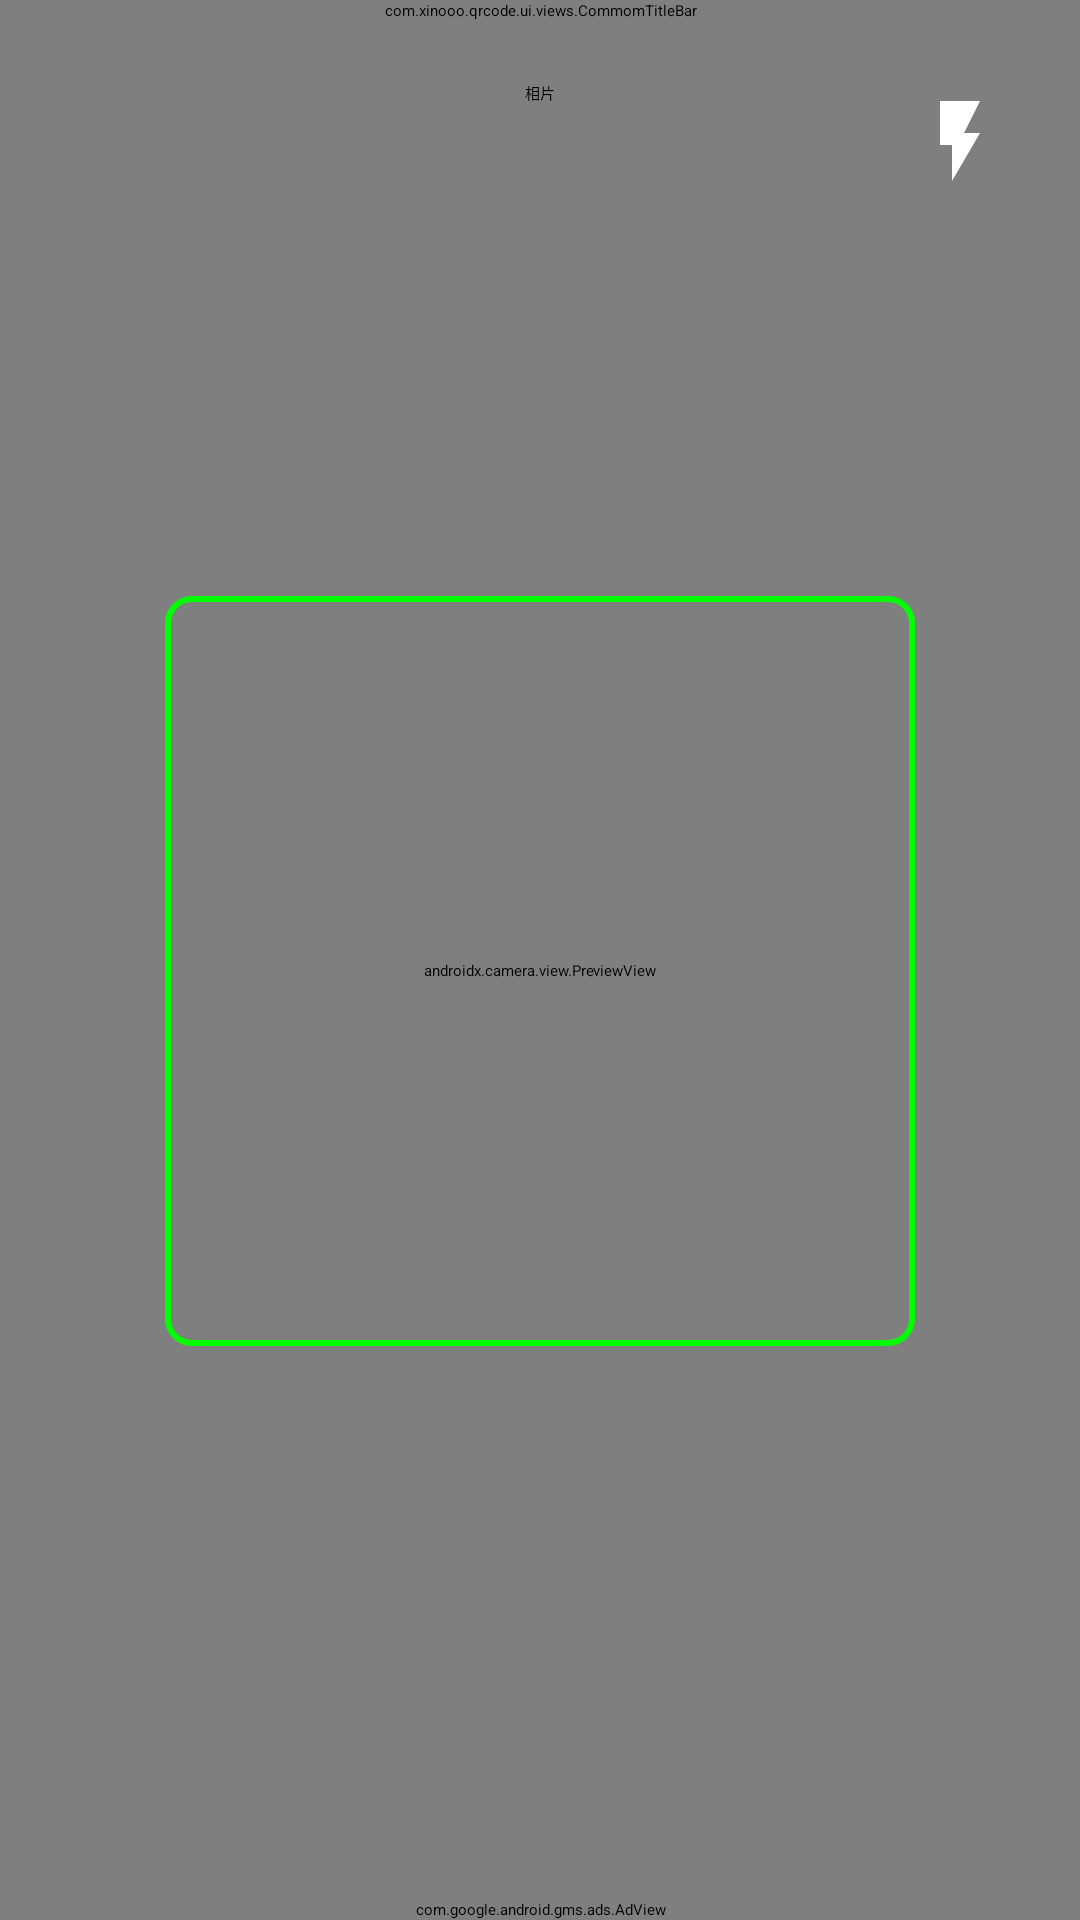

Locate icon controls on the screen. Image size 1080w x 1920h, boxes as (x1, y1, x2, y2).
flash: (940, 101, 980, 181)
